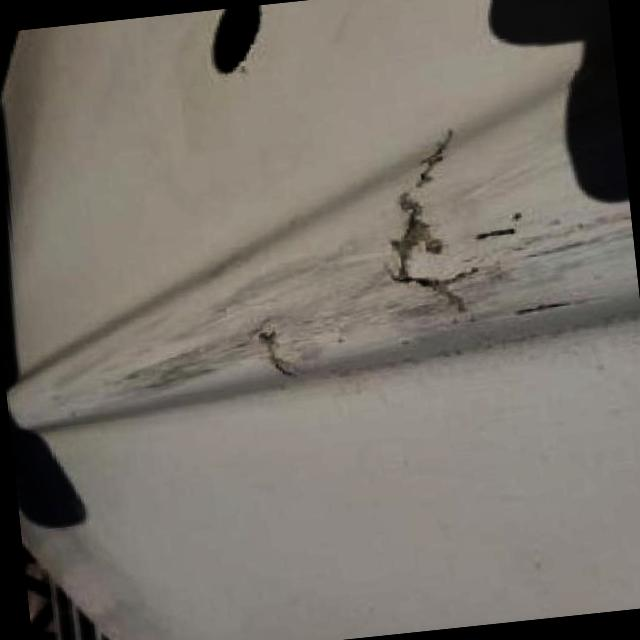crack: (384, 192, 481, 313), (411, 123, 459, 193), (521, 298, 574, 316), (474, 224, 523, 242)
